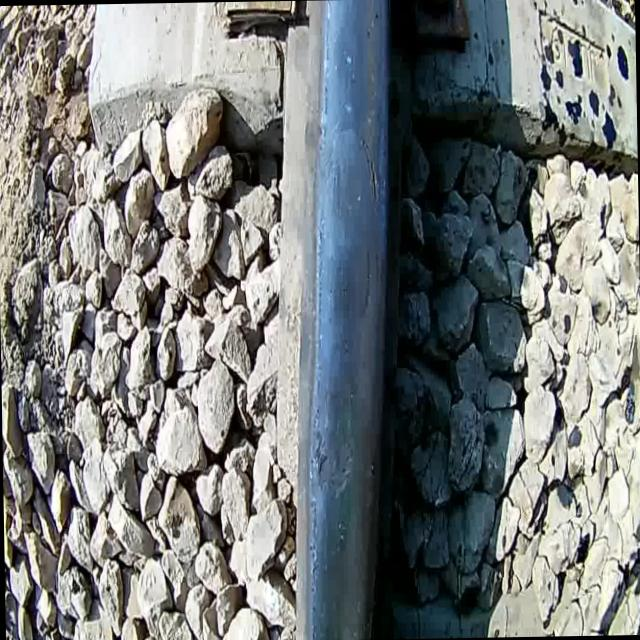Cracks: (342, 116, 395, 226)
Squats: (296, 410, 370, 514)
